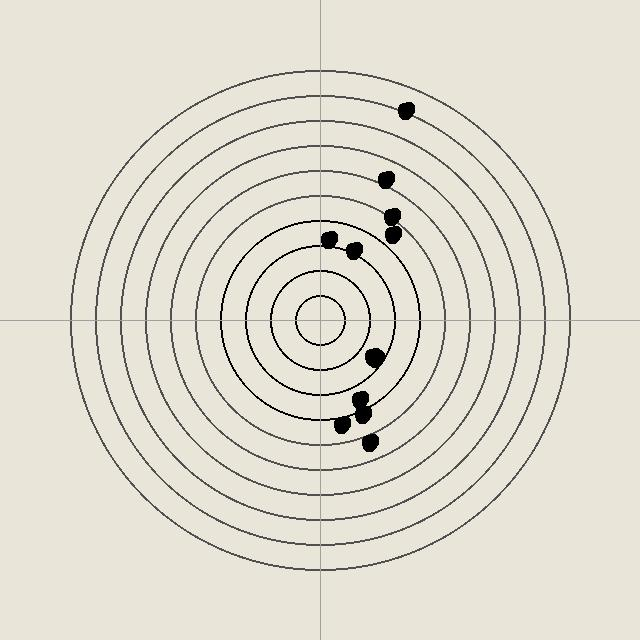vertical_scatter: (365, 348, 385, 368), (359, 432, 379, 452), (382, 224, 402, 244), (331, 414, 351, 434), (362, 346, 382, 366), (349, 389, 369, 409), (352, 404, 372, 424), (343, 240, 363, 260), (395, 100, 415, 120), (318, 229, 338, 249), (381, 206, 401, 226), (375, 169, 395, 189)
